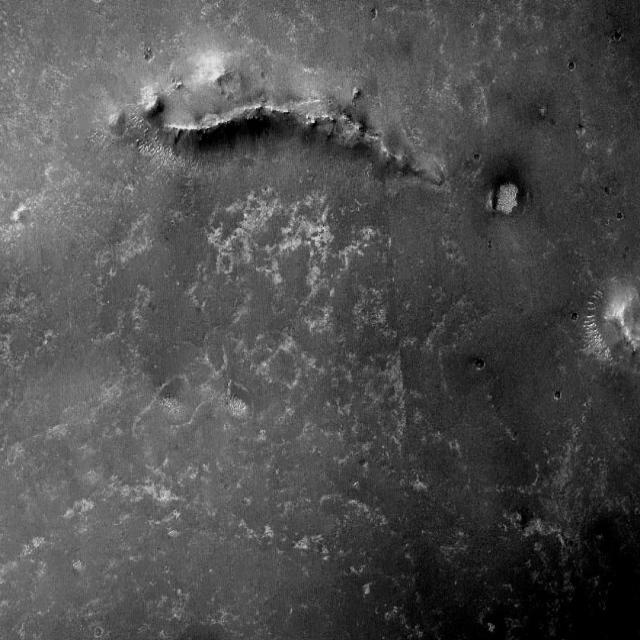Crater: (0, 1, 640, 640), (484, 139, 548, 231), (168, 625, 244, 640)
